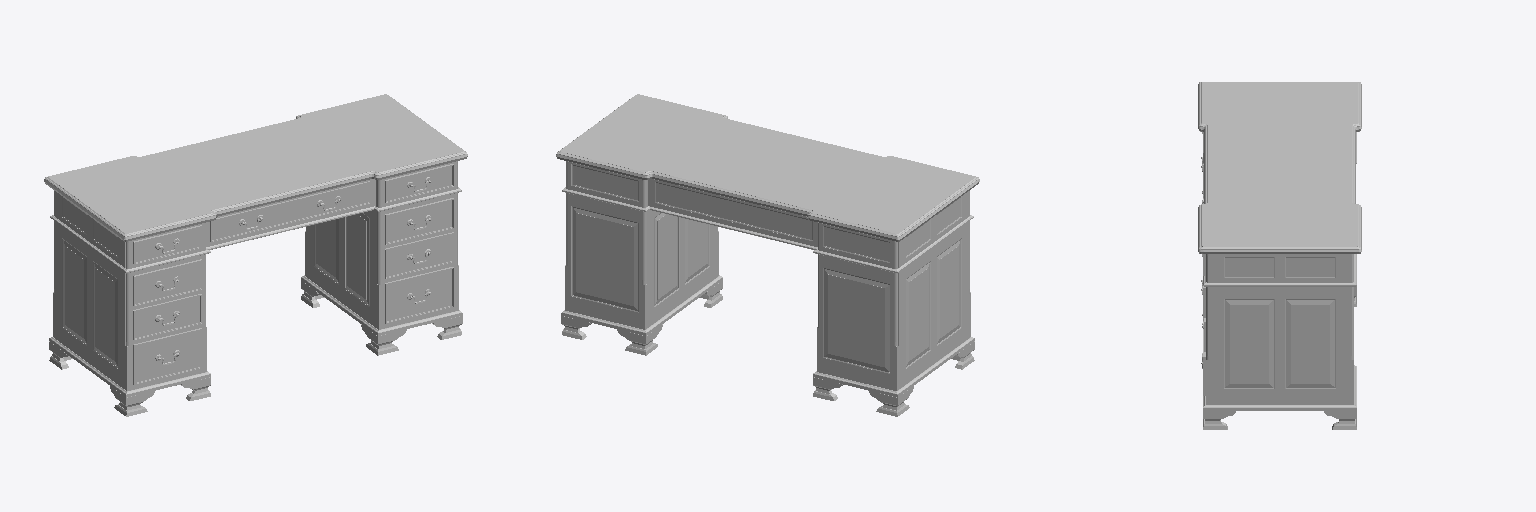
File: Desk.obj
3 renders of one model, left to right at view 1: azimuth 30°, elevation 25°; view 2: azimuth 150°, elevation 25°; view 3: azimuth 270°, elevation 25°, orthographic.
Parts seen in each view (by area): view 1: Desk_low_Desk, Draw_2_low_Desk, Draw_1_low_Desk, Draw_3_low_Desk; view 2: Desk_low_Desk; view 3: Desk_low_Desk.
Boxes of the visible parts, x1=… form: Desk_low_Desk: x1=44, y1=94, x2=467, y2=416; Draw_2_low_Desk: x1=210, y1=181, x2=370, y2=242; Draw_1_low_Desk: x1=133, y1=225, x2=202, y2=264; Draw_3_low_Desk: x1=385, y1=164, x2=453, y2=203; Desk_low_Desk: x1=556, y1=94, x2=979, y2=416; Desk_low_Desk: x1=1198, y1=82, x2=1361, y2=429.
Size of the model in its own units: 1.61 by 0.8204 by 0.6623.